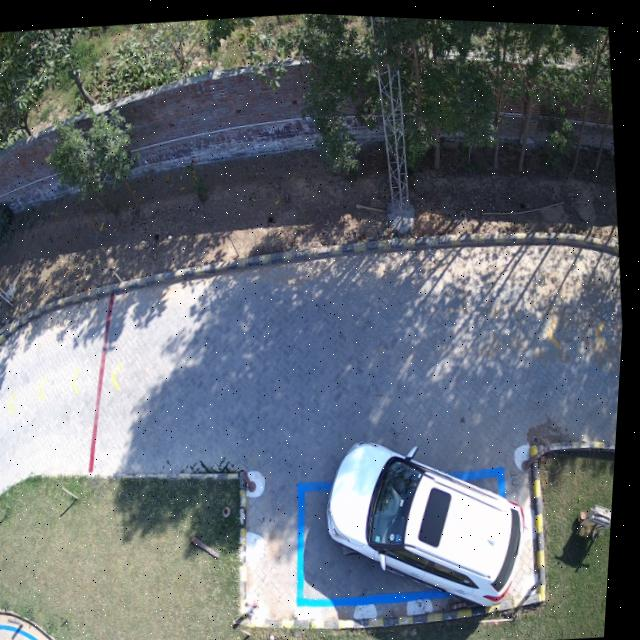car: (332, 438, 531, 599)
